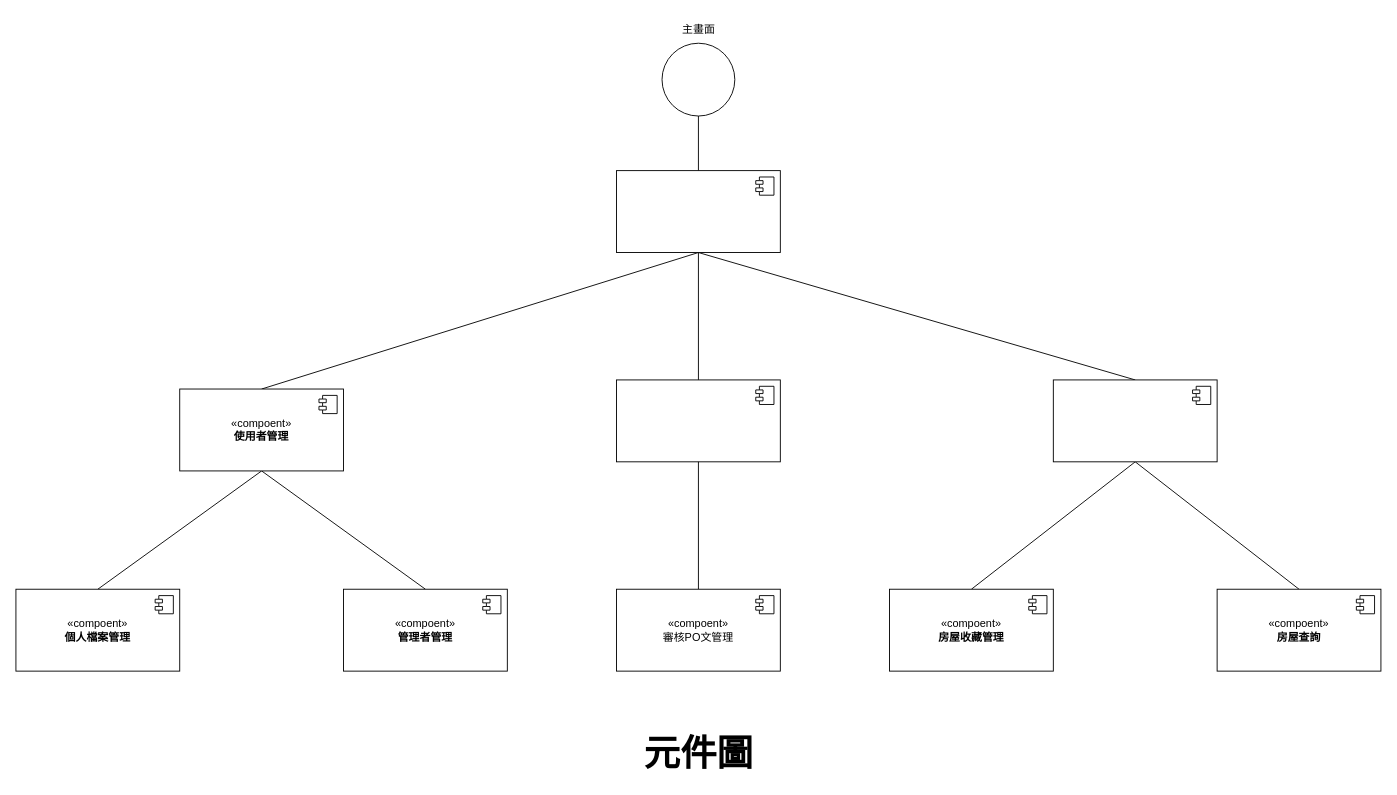
Image size: 1397x795. Some labels were removed from this diagram. Here are the shapes that lost their labels. From the top down, the box of each, then its label:
(616, 170, 780, 253): «compoent» 登入
(616, 379, 780, 462): «compoent» PO文管理
(1052, 379, 1217, 462): «compoent» 房屋管理
